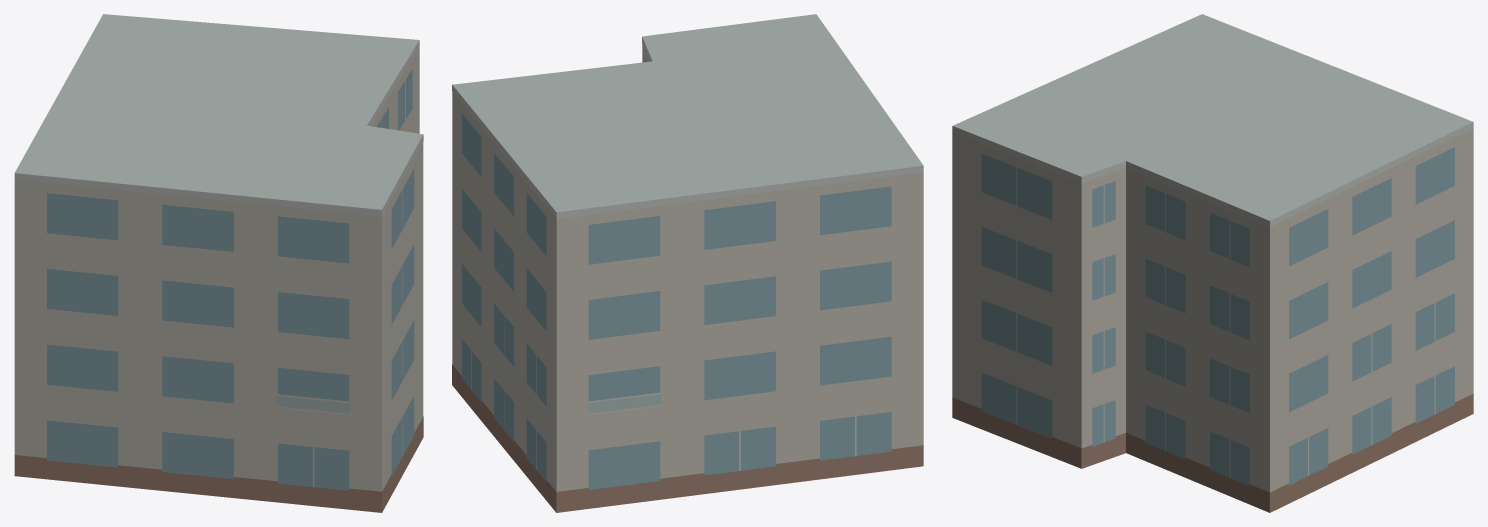
The model's file is survey-upis-33037843.glb.
3 views of the same model, side by side, from view 1: azimuth 30°, elevation 25°; view 2: azimuth 150°, elevation 25°; view 3: azimuth 270°, elevation 25° (orthographic). The views are drawn at different scales.
Visible parts, largest first — view 1: survey-upis-33037843.tmp; view 2: survey-upis-33037843.tmp; view 3: survey-upis-33037843.tmp.
Boxes of the visible parts, x1=… form: survey-upis-33037843.tmp: x1=14, y1=14, x2=423, y2=512; survey-upis-33037843.tmp: x1=452, y1=14, x2=923, y2=512; survey-upis-33037843.tmp: x1=952, y1=14, x2=1473, y2=512.
Size of the model in its own units: 16.61 by 10.92 by 17.67.
